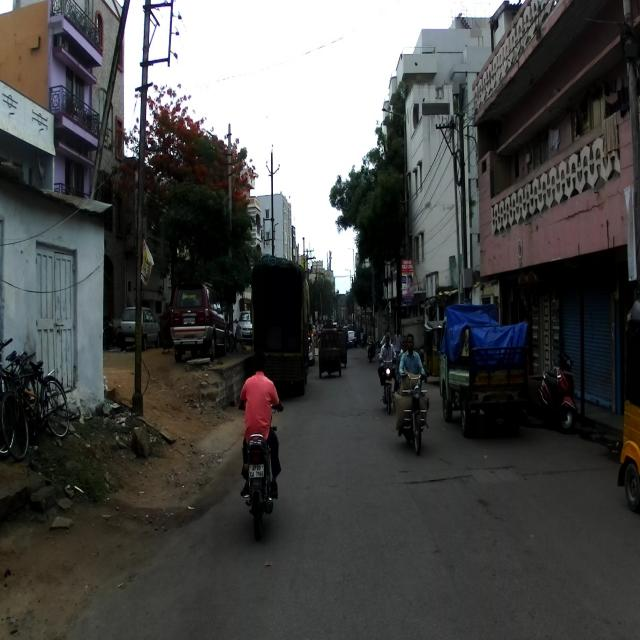motorcycle_Hero: (238, 399, 280, 542)
motorcycle_TVS: (394, 360, 430, 454)
scooter: (536, 349, 578, 433)
